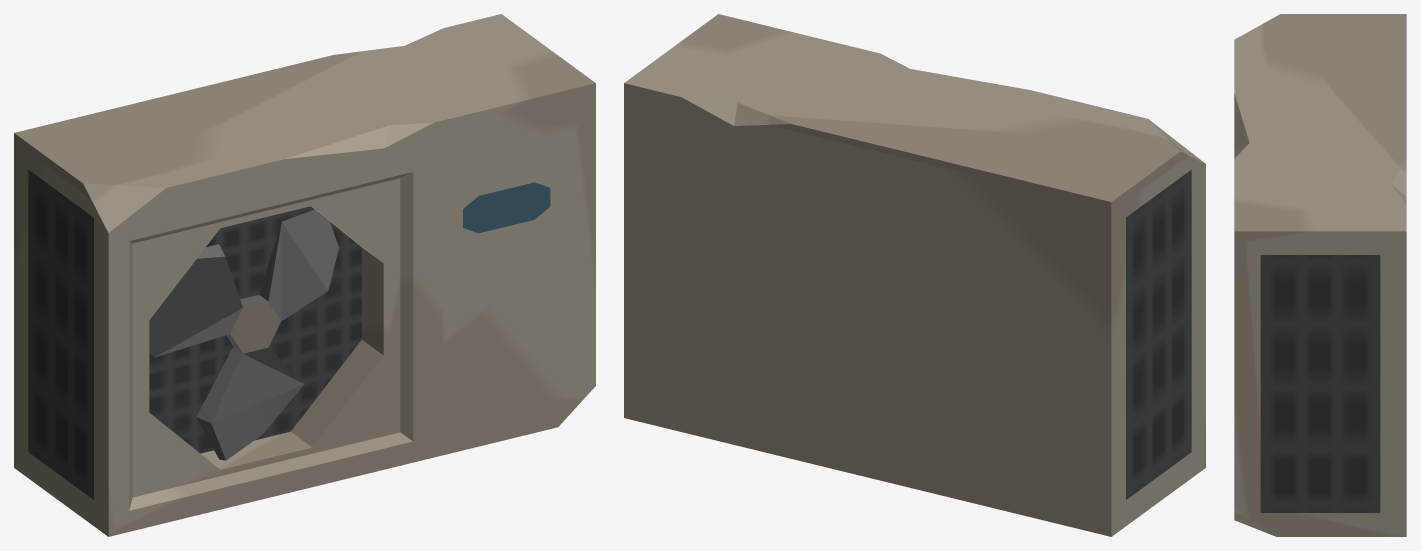
The model's file is SM_Prop_Airconditioner_03.fbx.
3 views of the same model, side by side, from view 1: azimuth 30°, elevation 25°; view 2: azimuth 150°, elevation 25°; view 3: azimuth 270°, elevation 25° (orthographic). The views are drawn at different scales.
Parts seen in each view (by area): view 1: SM_Prop_Airconditioner_03; view 2: SM_Prop_Airconditioner_03; view 3: SM_Prop_Airconditioner_03.
Part boxes in pixels (x1,y1,x2,y2): SM_Prop_Airconditioner_03: (14,14,595,536); SM_Prop_Airconditioner_03: (624,14,1205,536); SM_Prop_Airconditioner_03: (1234,14,1406,536).
Size of the model in its own units: 107 by 70.52 by 36.07.
